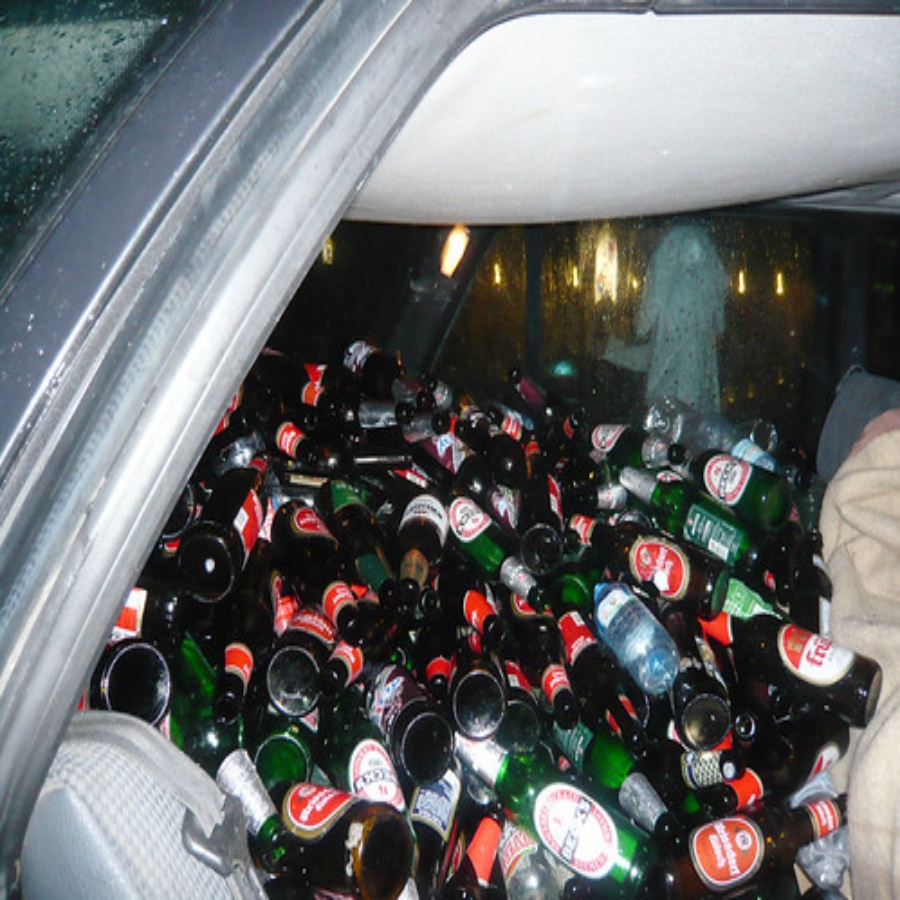beer: (444, 724, 654, 876), (686, 599, 883, 720), (183, 448, 274, 600), (239, 789, 402, 869), (396, 494, 448, 602)
